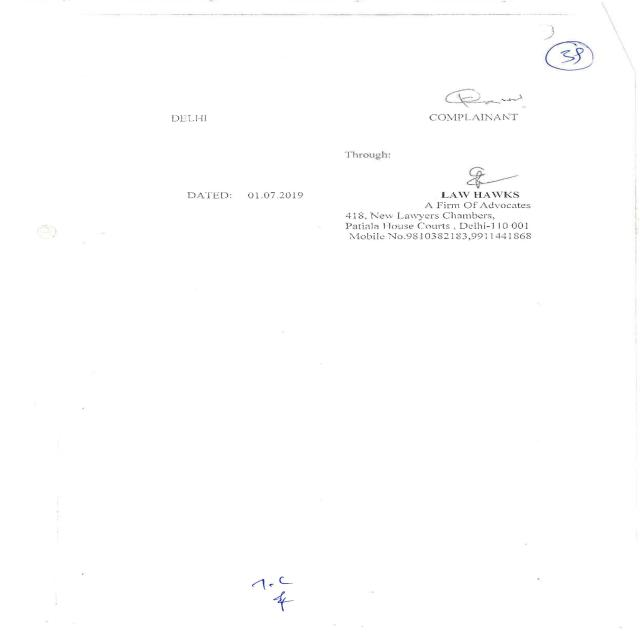page-number: (413, 36, 633, 86)
